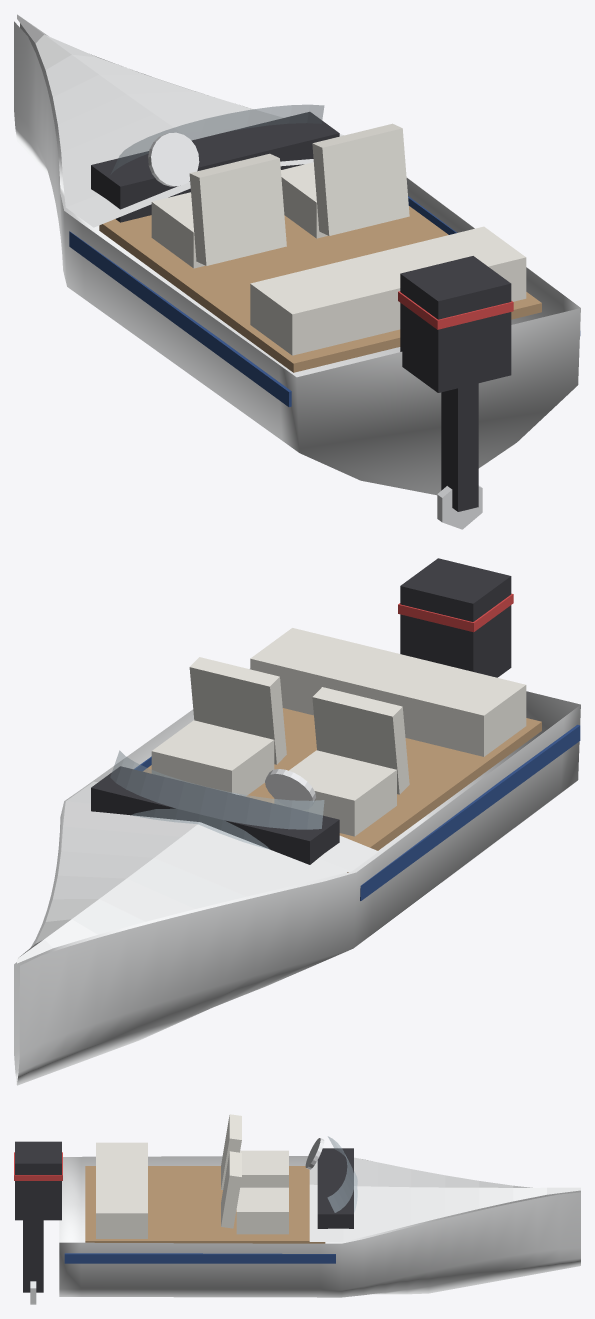
File: speedboat.glb
3 views of the same model, one above another, from view 1: azimuth 30°, elevation 25°; view 2: azimuth 150°, elevation 25°; view 3: azimuth 270°, elevation 25° (orthographic). The views are drawn at different scales.
Visible parts, largest first — view 1: boat_hull, boat_fore, boat_bench, boat_deck, boat_motor, boat_back-0.42, boat_back0.42, boat_dash, boat_leg, boat_stripe-1, boat_glass, boat_seat-0.42 (+4 smaller); view 2: boat_hull, boat_fore, boat_bench, boat_dash, boat_motor, boat_deck, boat_glass, boat_seat0.42, boat_back0.42, boat_back-0.42, boat_seat-0.42, boat_stripe-1 (+2 smaller); view 3: boat_hull, boat_fore, boat_deck, boat_bench, boat_motor, boat_dash, boat_stripe1, boat_seat0.42, boat_seat-0.42, boat_leg, boat_back0.42, boat_glass (+3 smaller).
Boxes of the visible parts, x1,y1,x2,y2 form: boat_hull: (14,21,580,495); boat_fore: (17,14,343,227); boat_bench: (250,226,526,355); boat_deck: (99,206,541,372); boat_motor: (400,256,511,392); boat_back-0.42: (189,153,286,265); boat_back0.42: (312,123,409,235); boat_dash: (91,112,339,222); boat_leg: (441,383,478,511); boat_stripe-1: (69,231,291,406); boat_glass: (110,104,324,174); boat_seat-0.42: (151,192,204,268); boat_hull: (14,668,580,1085); boat_fore: (17,781,378,963); boat_bench: (250,628,526,756); boat_dash: (91,766,339,864); boat_motor: (400,558,511,677); boat_deck: (143,708,541,872); boat_glass: (110,750,324,849); boat_seat0.42: (151,720,274,796); boat_back0.42: (189,657,286,764); boat_back-0.42: (312,687,409,794); boat_seat-0.42: (274,750,396,836); boat_stripe-1: (360,724,580,900); boat_hull: (59,1156,580,1297); boat_fore: (309,1157,580,1241); boat_deck: (85,1166,325,1243); boat_bench: (96,1142,147,1238); boat_motor: (15,1141,61,1220); boat_dash: (317,1148,353,1228); boat_stripe1: (64,1253,335,1263); boat_seat0.42: (236,1187,288,1234); boat_seat-0.42: (240,1150,288,1187); boat_leg: (23,1220,43,1292); boat_back0.42: (221,1151,241,1228); boat_glass: (327,1136,357,1212).
Bounding box in the file's own units: 2 × 1.69 × 5.43.
